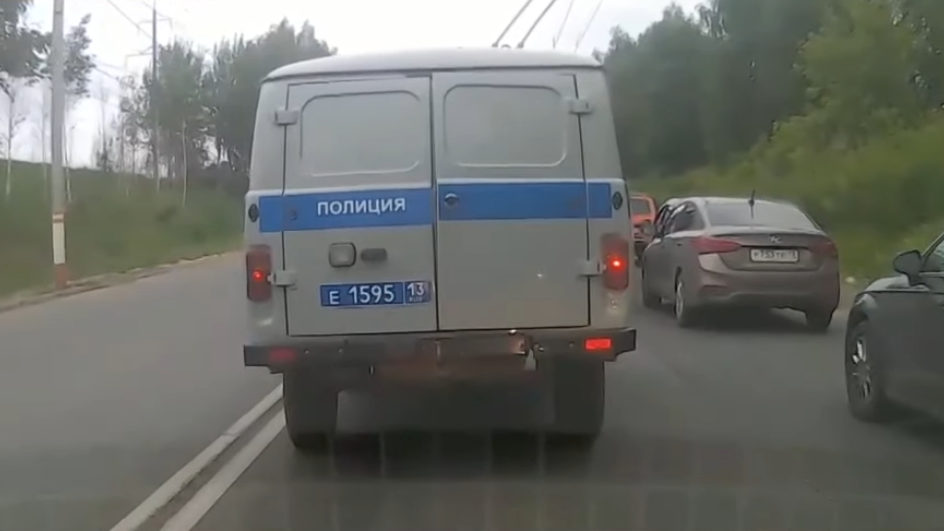non emergency car: (645, 184, 841, 332)
police car: (239, 44, 640, 454)
